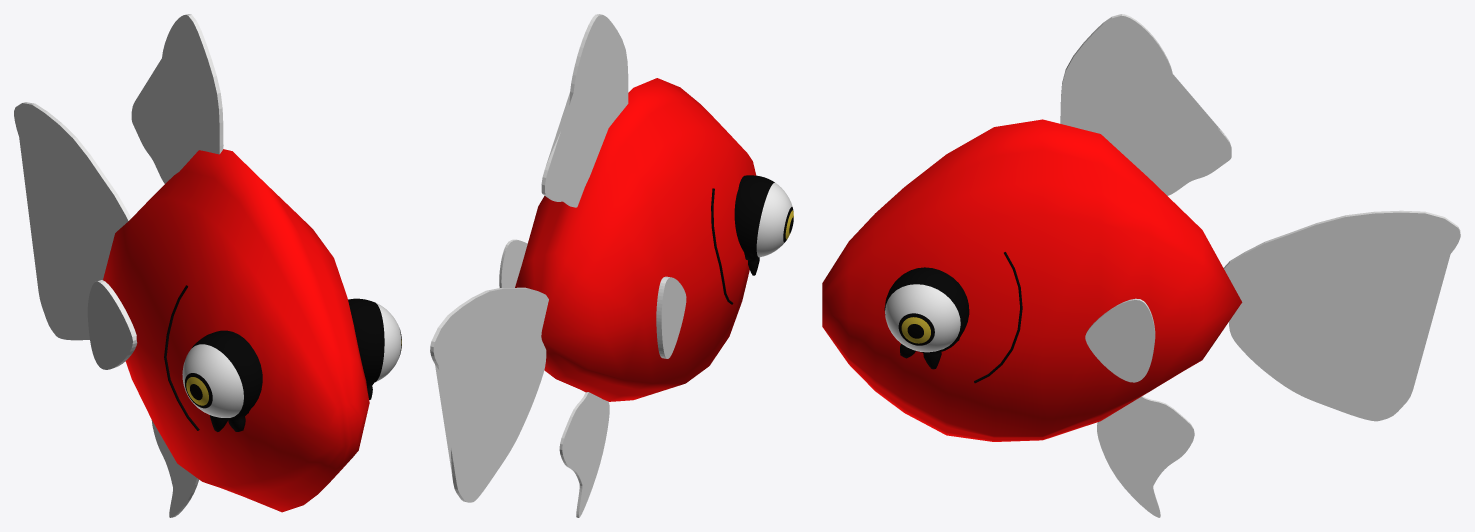
Rendered from 炎金魚.fbx.
3 renders of one model, left to right at view 1: azimuth 30°, elevation 25°; view 2: azimuth 150°, elevation 25°; view 3: azimuth 270°, elevation 25°, orthographic. The views are drawn at different scales.
Visible parts, largest first — view 1: ベジエ円.001; view 2: ベジエ円.001; view 3: ベジエ円.001.
Boxes of the visible parts, left/top/right/bottom form: ベジエ円.001: left=14, top=14, right=401, bottom=517; ベジエ円.001: left=430, top=14, right=793, bottom=517; ベジエ円.001: left=822, top=14, right=1460, bottom=517.
Size of the model in its own units: 80.65 by 191 by 220.
